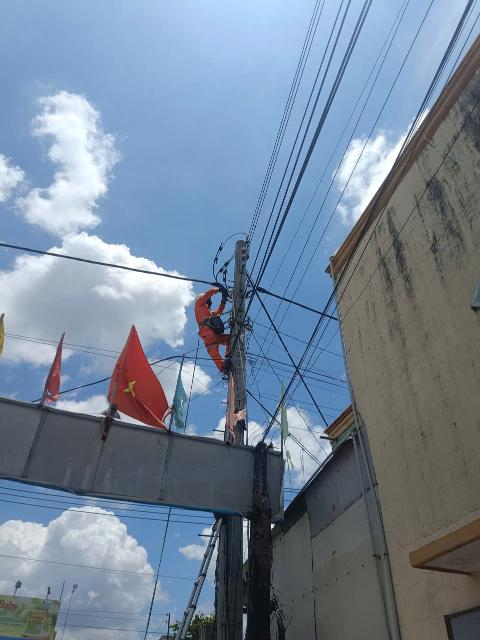gloves: (219, 284, 233, 304)
helmet: (190, 292, 211, 302)
shoes: (225, 353, 239, 361)
